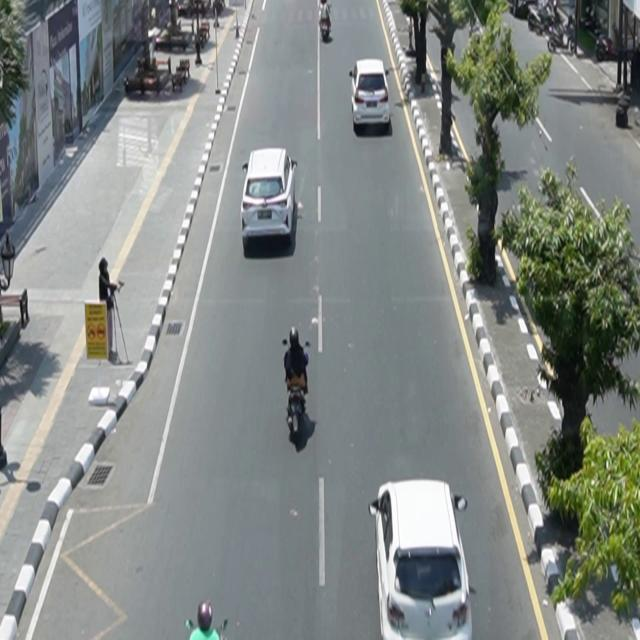car: (369, 479, 474, 640), (241, 148, 299, 248), (350, 59, 391, 132)
